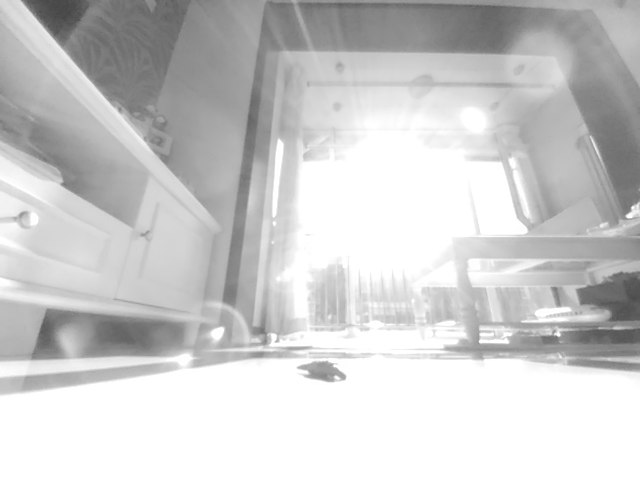curtain: (261, 62, 314, 344)
pet feces: (298, 358, 348, 382)
